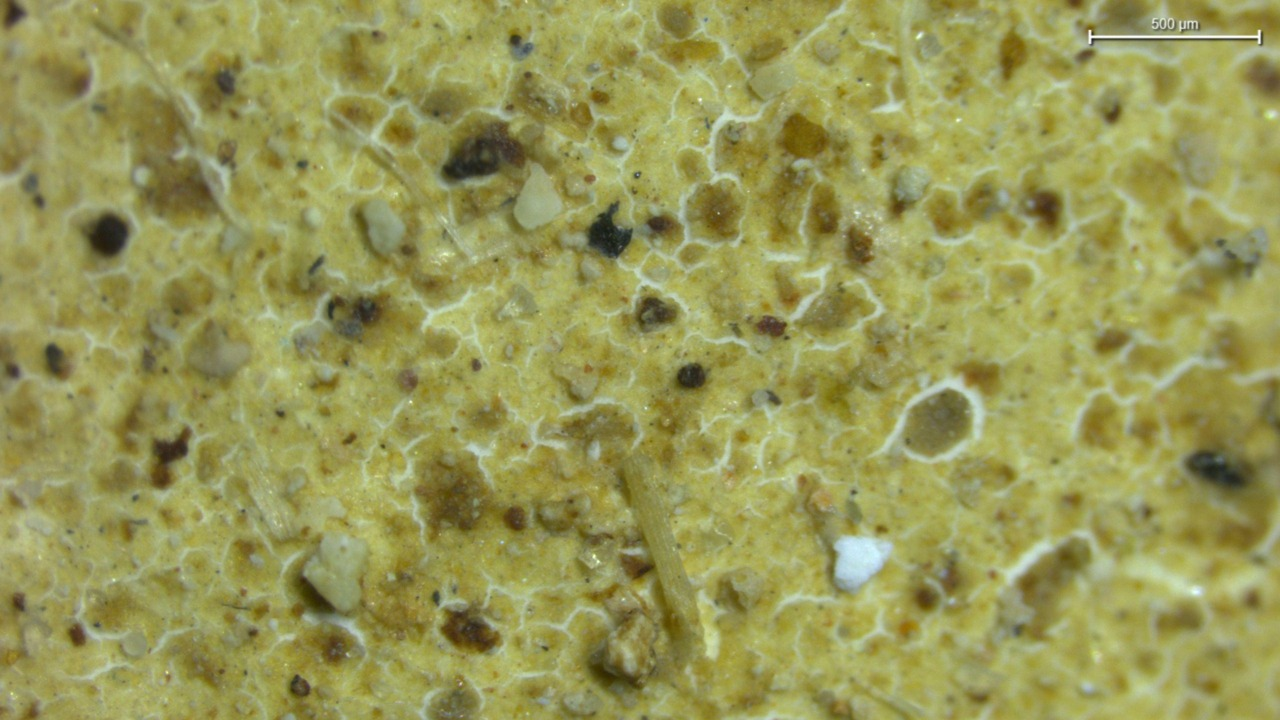microplastic_fragment: (302, 532, 367, 614), (834, 536, 893, 593), (513, 163, 562, 230), (359, 199, 406, 256)
